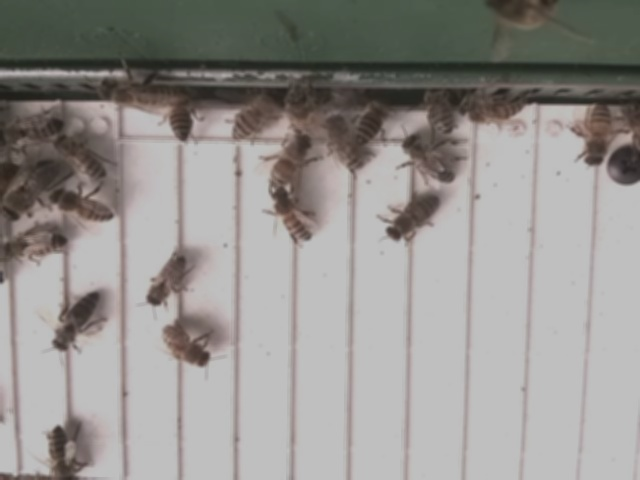Drone: (0, 154, 61, 225)
Worker: (48, 288, 101, 356), (381, 192, 440, 246), (400, 132, 461, 184), (51, 134, 110, 184), (321, 110, 367, 174), (0, 226, 71, 264), (226, 91, 276, 143), (143, 252, 186, 312), (47, 187, 114, 225), (156, 323, 210, 370), (270, 187, 313, 246), (267, 130, 310, 189), (578, 102, 613, 173), (0, 112, 68, 148), (458, 94, 527, 129), (354, 93, 394, 147), (43, 423, 79, 480), (422, 89, 456, 136)
